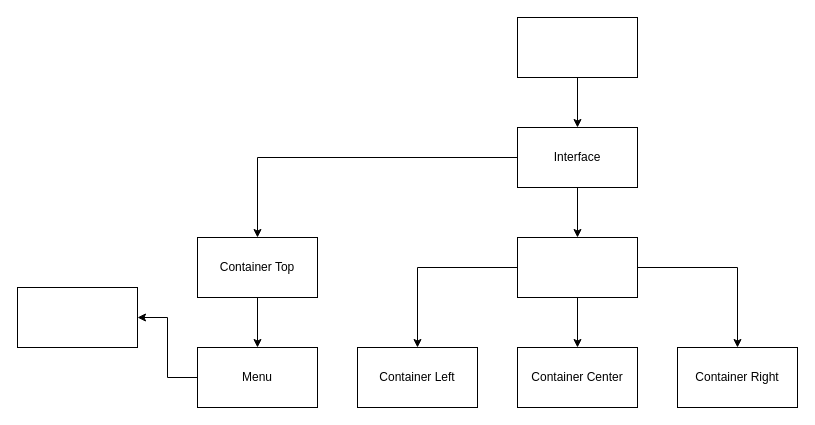
Some shapes in this 815 by 425 pixel diagram are drawn without their labels. The shapes that lost their labels are listed below. From the top down, each one's centre as x and y in pixels, then its label:
the point at 577,47: document.body
the point at 577,267: Container Mid
the point at 77,317: Menu Button (File)
